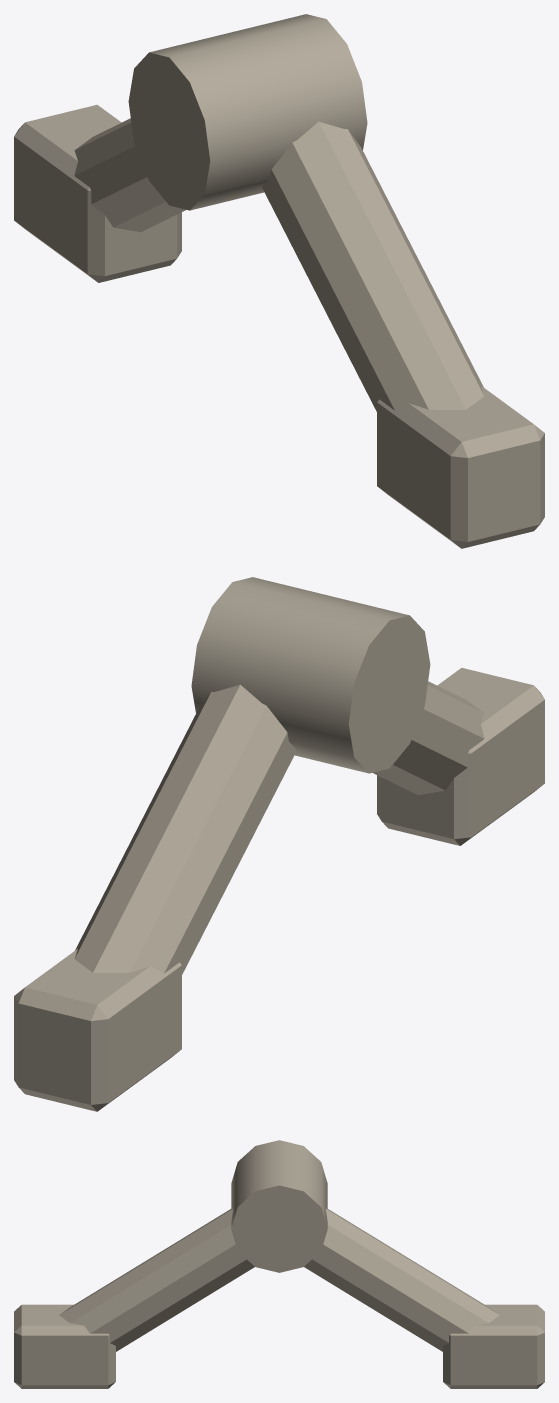
File: rb_bogie_arm.glb
The picture shows the model from 3 angles, top to bottom: view 1: azimuth 30°, elevation 25°; view 2: azimuth 150°, elevation 25°; view 3: azimuth 270°, elevation 25°; orthographic projection. The views are drawn at different scales.
Parts seen in each view (by area): view 1: rb_bogie_arm; view 2: rb_bogie_arm; view 3: rb_bogie_arm.
Boxes of the visible parts, x1=… form: rb_bogie_arm: x1=14, y1=14, x2=544, y2=548; rb_bogie_arm: x1=14, y1=577, x2=544, y2=1111; rb_bogie_arm: x1=14, y1=1140, x2=544, y2=1388.
Bounding box in the file's own units: 0.1 × 0.2125 × 0.495.
